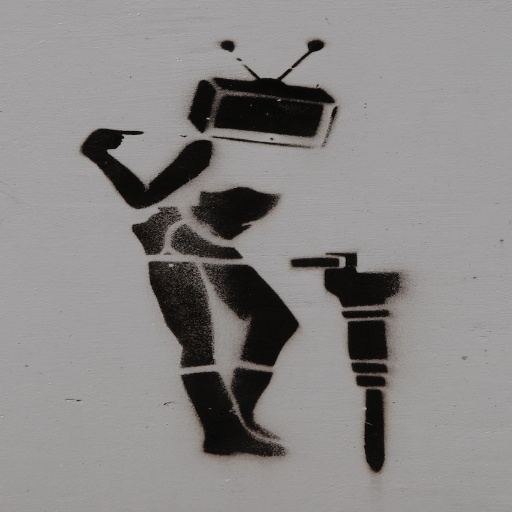hand: (78, 120, 141, 158), (322, 251, 358, 274)
